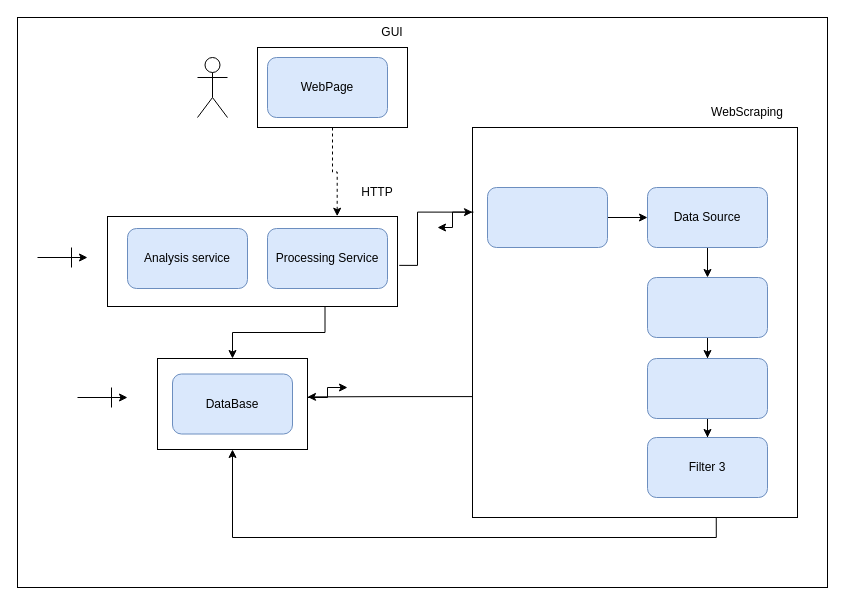
This 845x605 diagram has some shape labels left out. The centre of each missing label's shape, as x and y in pixels:
"Filter 2" goes at point (707, 388).
"Filter1" goes at point (707, 307).
"PipeLine" goes at point (547, 217).
